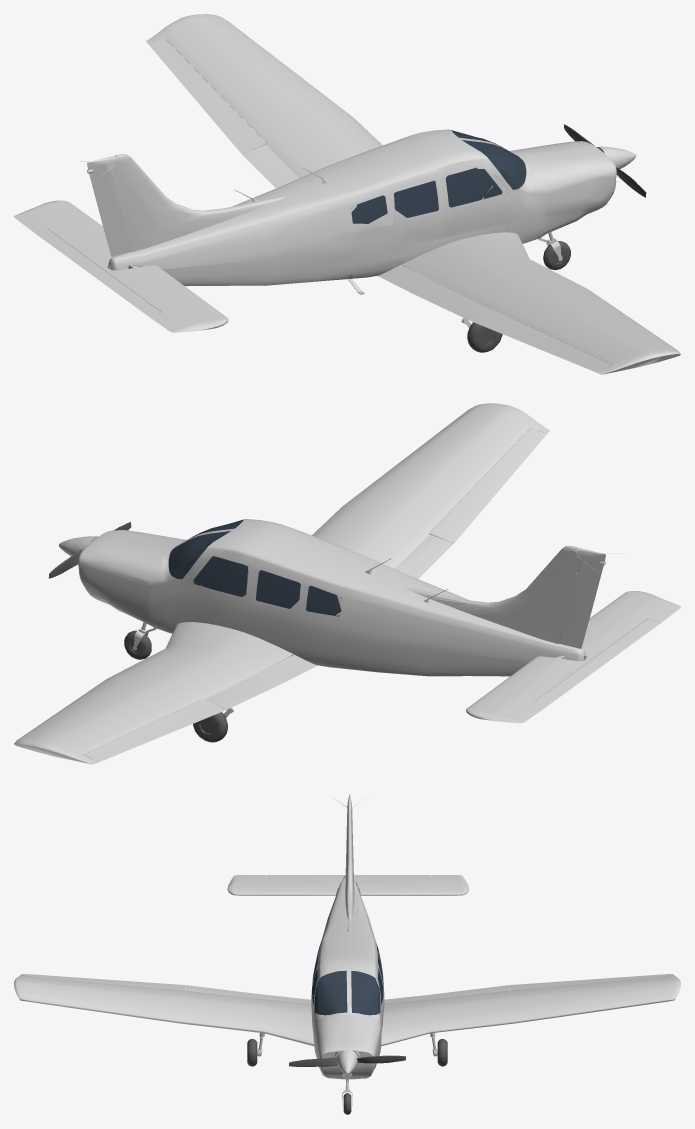
3 renders of one model, top to bottom at view 1: azimuth 30°, elevation 25°; view 2: azimuth 150°, elevation 25°; view 3: azimuth 270°, elevation 25°, orthographic. The views are drawn at different scales.
Visible parts, largest first — view 1: body, glass, trim; view 2: body, glass, trim; view 3: body, glass, trim, spin.
Boxes of the visible parts, bbox=[...] form: body: bbox=[14, 14, 680, 374]; glass: bbox=[351, 130, 526, 223]; trim: bbox=[467, 241, 570, 352]; body: bbox=[14, 403, 680, 764]; glass: bbox=[168, 519, 341, 616]; trim: bbox=[124, 630, 227, 742]; body: bbox=[14, 794, 680, 1105]; glass: bbox=[312, 944, 383, 1015]; trim: bbox=[247, 1039, 447, 1114]; spin: bbox=[289, 1055, 405, 1066].
Size of the model in its own units: 1.51 by 0.5724 by 2.2.
